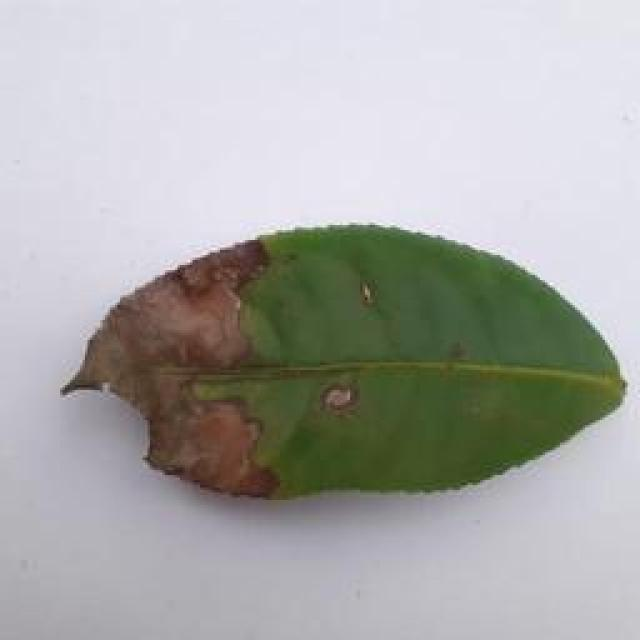Gray Blight: (56, 220, 626, 502)
